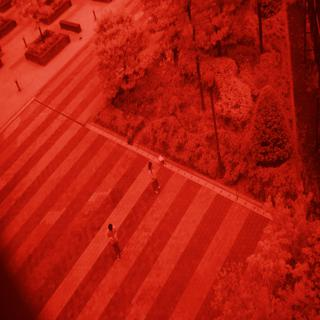person: (100, 216, 129, 266), (140, 151, 160, 204)
